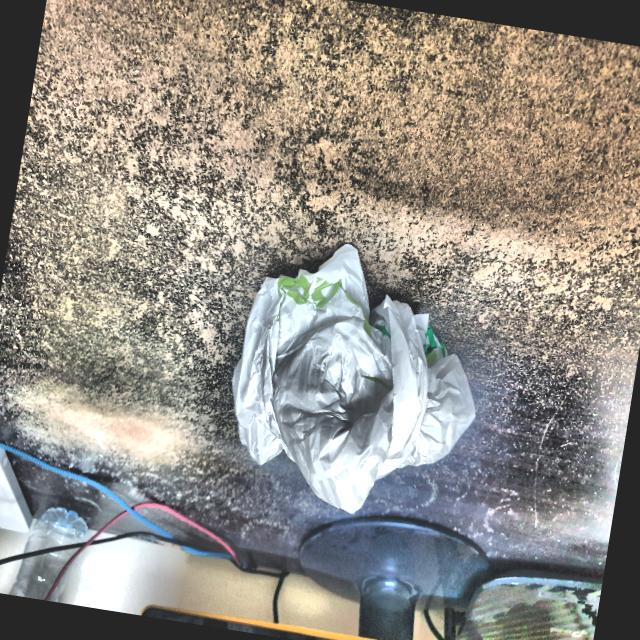plastic bag: (211, 209, 506, 540)
